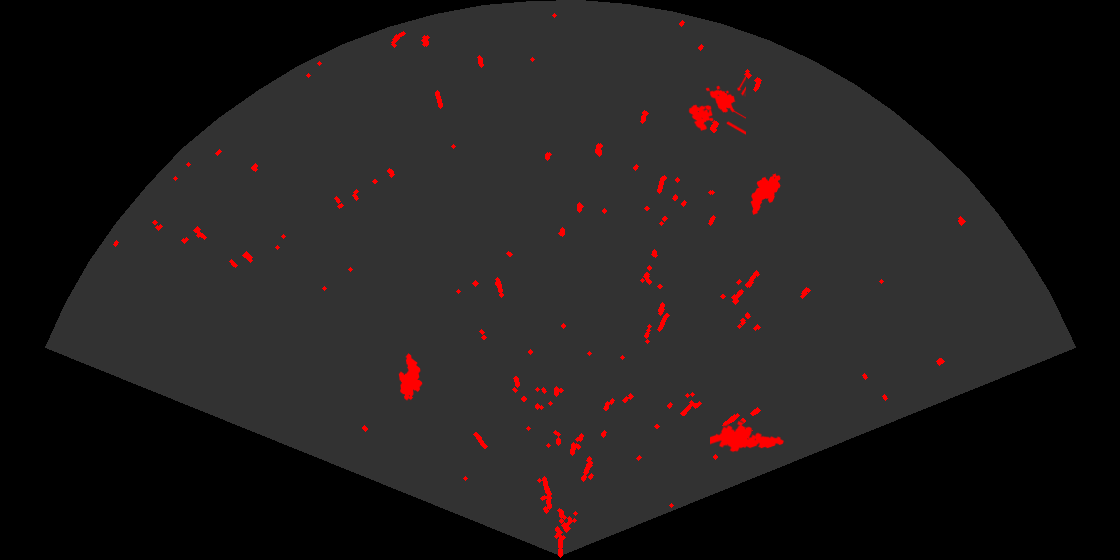AUV: (749, 172, 782, 216), (397, 352, 424, 402)
cage: (687, 74, 746, 137)
frogman: (710, 419, 786, 454)
